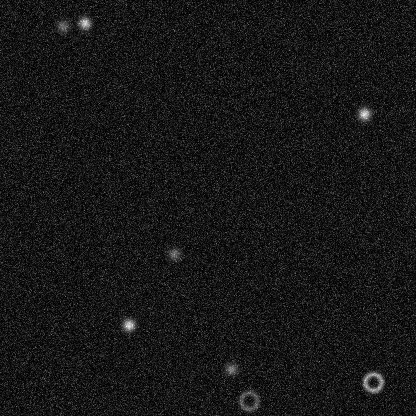Ring: (361, 370, 385, 394), (236, 388, 260, 412)
Spot: (166, 246, 182, 262), (356, 105, 372, 121), (54, 18, 70, 34), (76, 14, 92, 30), (223, 360, 239, 376), (120, 316, 136, 332)
